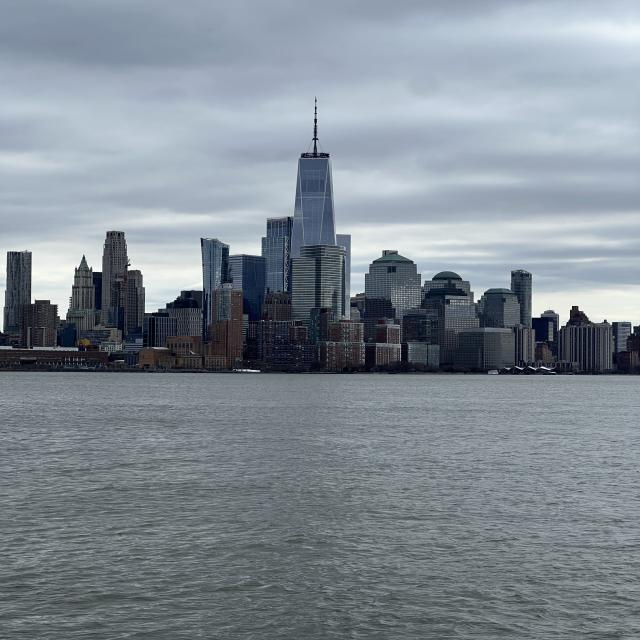WTC: (291, 96, 338, 247)
